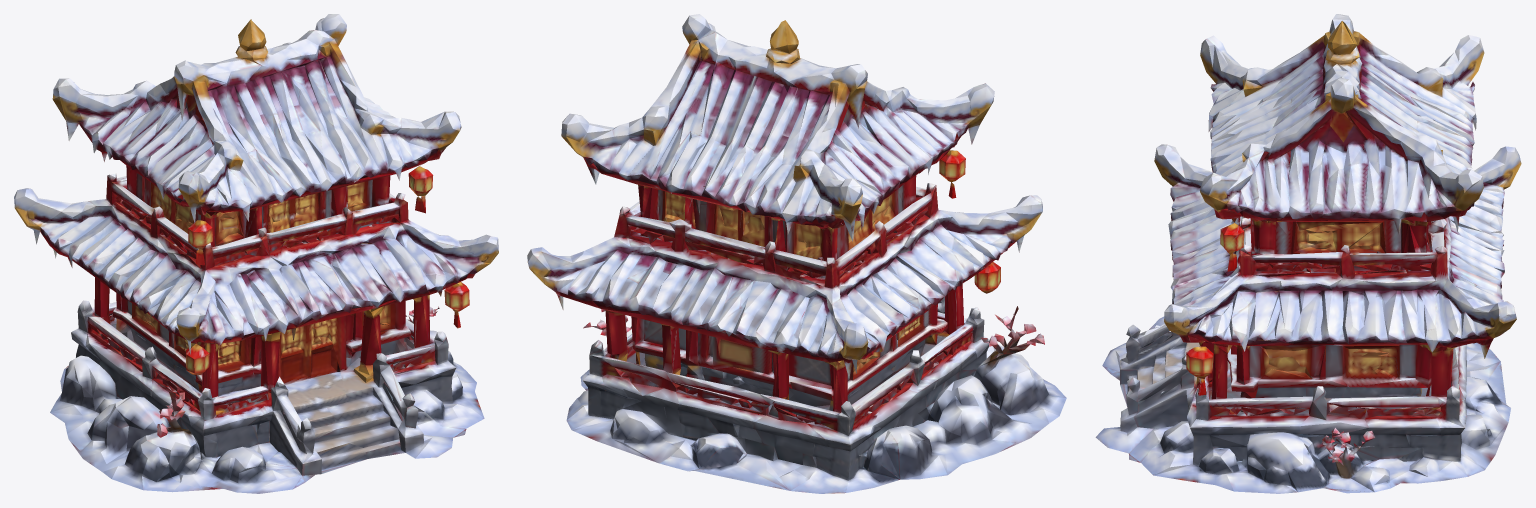
File: pagoda_snow.glb
3 renders of one model, left to right at view 1: azimuth 30°, elevation 25°; view 2: azimuth 150°, elevation 25°; view 3: azimuth 270°, elevation 25°, orthographic. The views are drawn at different scales.
Visible parts, largest first — view 1: output_unwrapped; view 2: output_unwrapped; view 3: output_unwrapped.
Part boxes in pixels (x1,y1,x2,y2): output_unwrapped: (14, 14, 498, 493); output_unwrapped: (527, 14, 1066, 493); output_unwrapped: (1095, 14, 1521, 493).
Bounding box in the file's own units: 1.9 × 1.71 × 1.73.
1 material, 1 textured.
